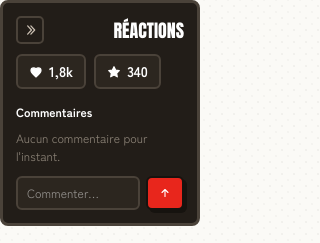
it: ReactionsAside (DR-4 FE-6 / DR-9 FE5) › signed-in ★ click toggles the work save
What coordinates should you click on to do the following:
click the button named "Ajouter à ma liste"
I would click on:
 (127, 72)
Its box is [94,54,161,89].
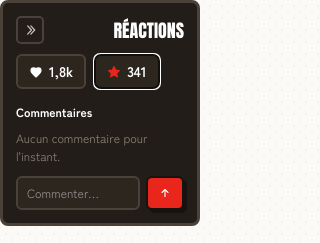
Result: the button named "Retirer de ma liste" reads "341" at [94,54,160,89]
